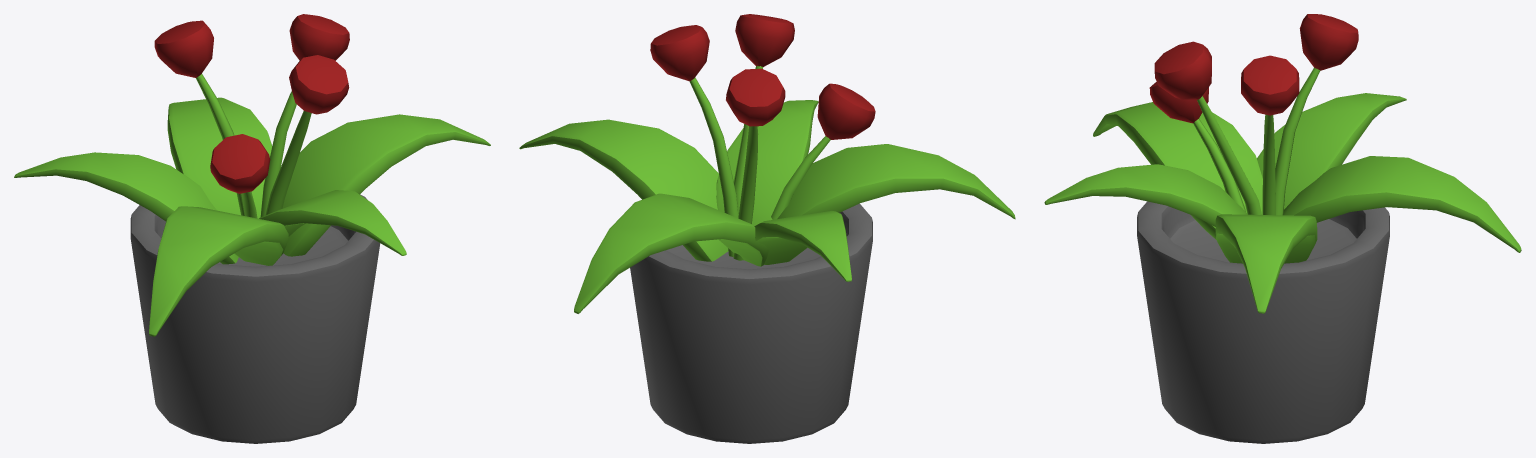
File: SM_flower_room_04.fbx
3 renders of one model, left to right at view 1: azimuth 30°, elevation 25°; view 2: azimuth 150°, elevation 25°; view 3: azimuth 270°, elevation 25°, orthographic. The views are drawn at different scales.
Parts seen in each view (by area): view 1: Object075; view 2: Object075; view 3: Object075.
Boxes of the visible parts, box(x1,y1,x2,y2) form: Object075: box(14, 14, 490, 443); Object075: box(519, 14, 1015, 443); Object075: box(1044, 14, 1521, 443).
Size of the model in its own units: 34.75 by 29.03 by 33.78.
